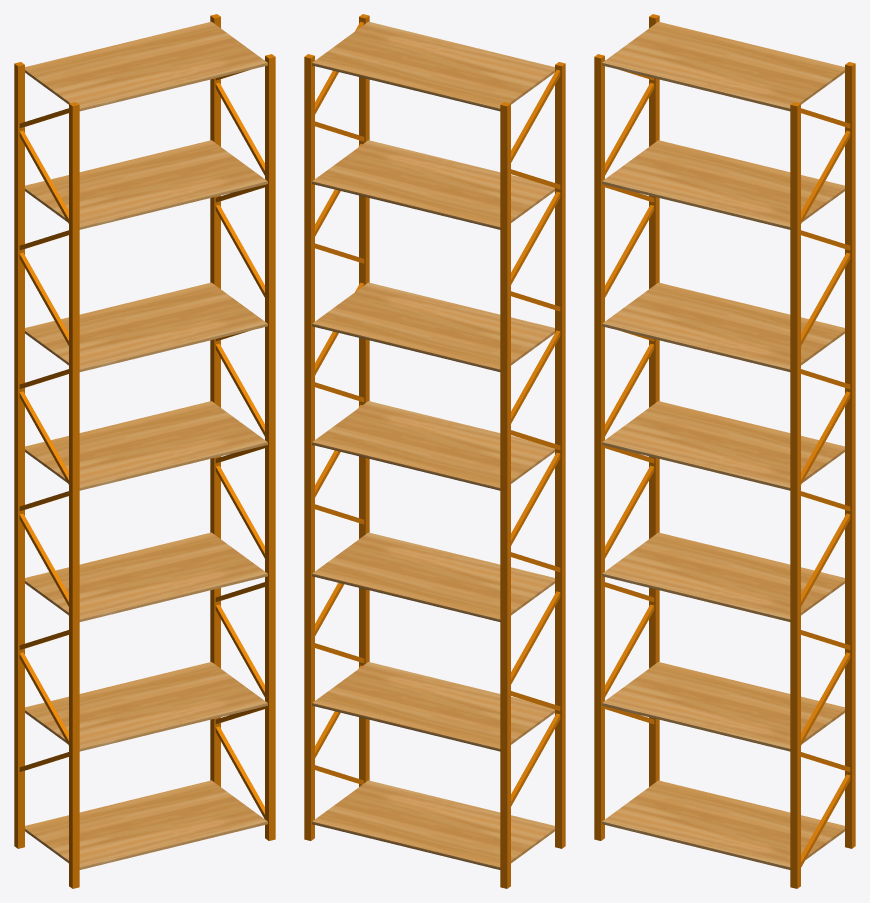
The model's file is Industrial_Rack_01.fbx.
The picture shows the model from 3 angles, left to right: view 1: azimuth 30°, elevation 25°; view 2: azimuth 150°, elevation 25°; view 3: azimuth 330°, elevation 25°; orthographic projection.
Visible parts, largest first — view 1: Industrial_Rack_01; view 2: Industrial_Rack_01; view 3: Industrial_Rack_01.
Boxes of the visible parts, left/top/right/bottom form: Industrial_Rack_01: left=14, top=14, right=275, bottom=888; Industrial_Rack_01: left=304, top=14, right=565, bottom=888; Industrial_Rack_01: left=594, top=14, right=855, bottom=888.
Bounding box in the file's own units: 2 × 7.37 × 1.
